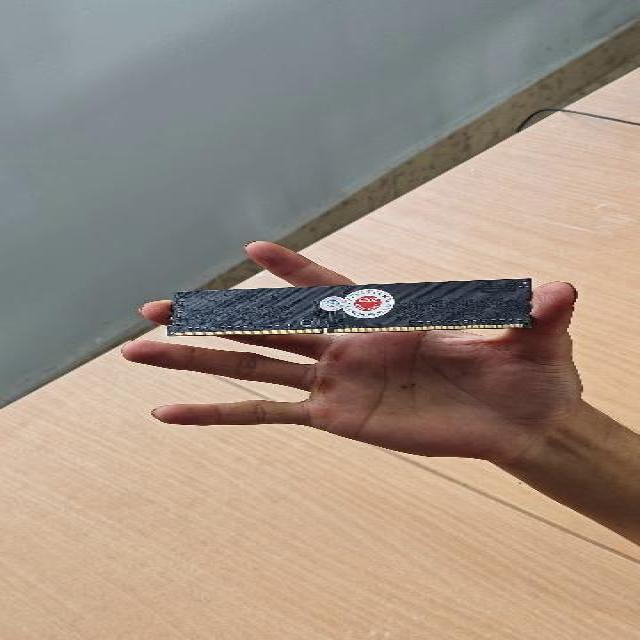RAM: (171, 276, 538, 335)
